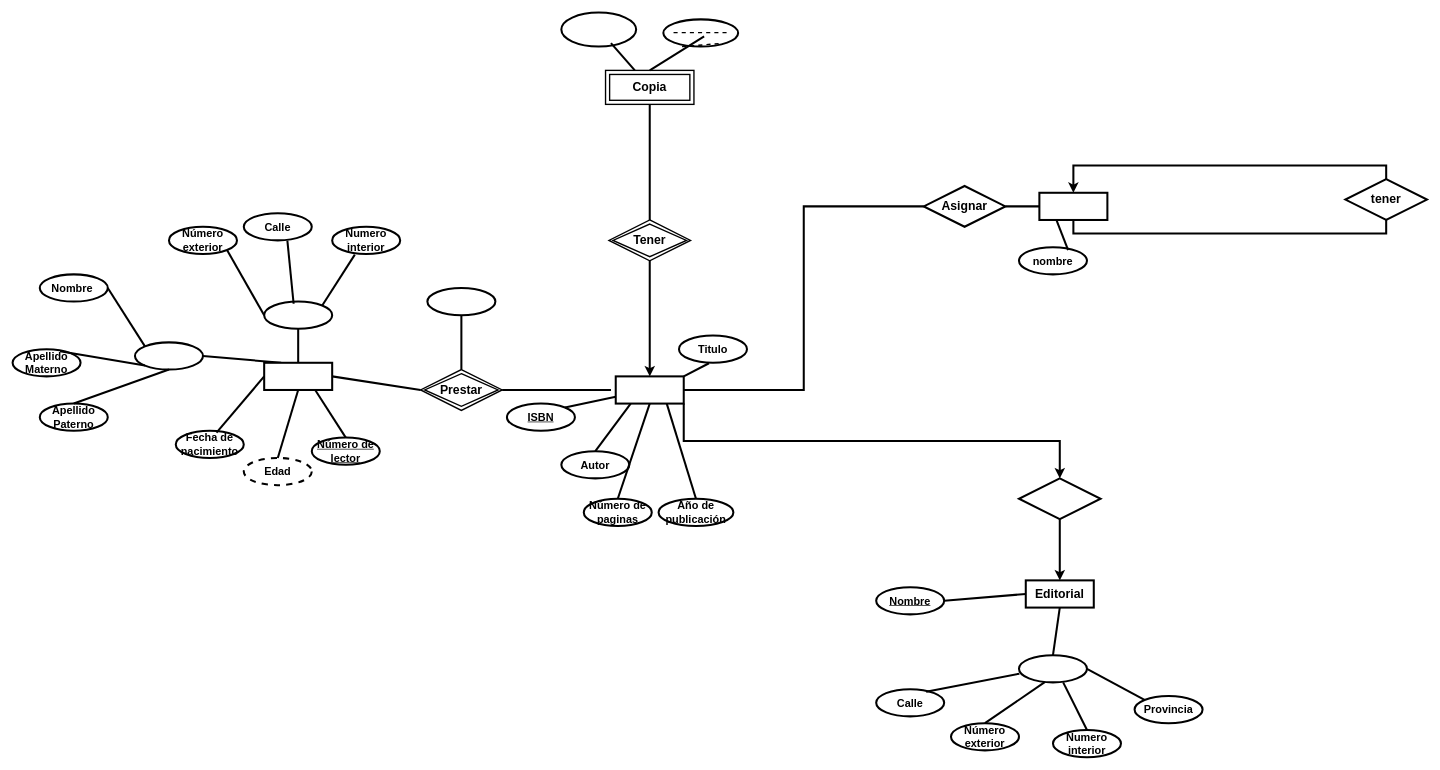
The diagram is 1440 pixels wide and 770 high, and some of its shapes have lost their labels. Here are the shapes that lost their labels. From the top down, the box of each, then its label:
(560, 11, 637, 47): Ubicación en estante
(662, 18, 739, 47): Número de copia
(1038, 191, 1108, 221): Categoria
(263, 300, 333, 329): Direccion
(426, 287, 496, 316): Fecha de devolcuión
(134, 341, 204, 370): Nombre Completo
(263, 361, 333, 391): Lector
(614, 375, 684, 404): Libro
(1018, 477, 1101, 520): Publicar
(1018, 654, 1088, 683): Ubicación
